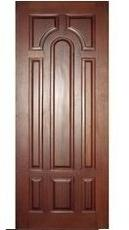door: (15, 9, 109, 228)
